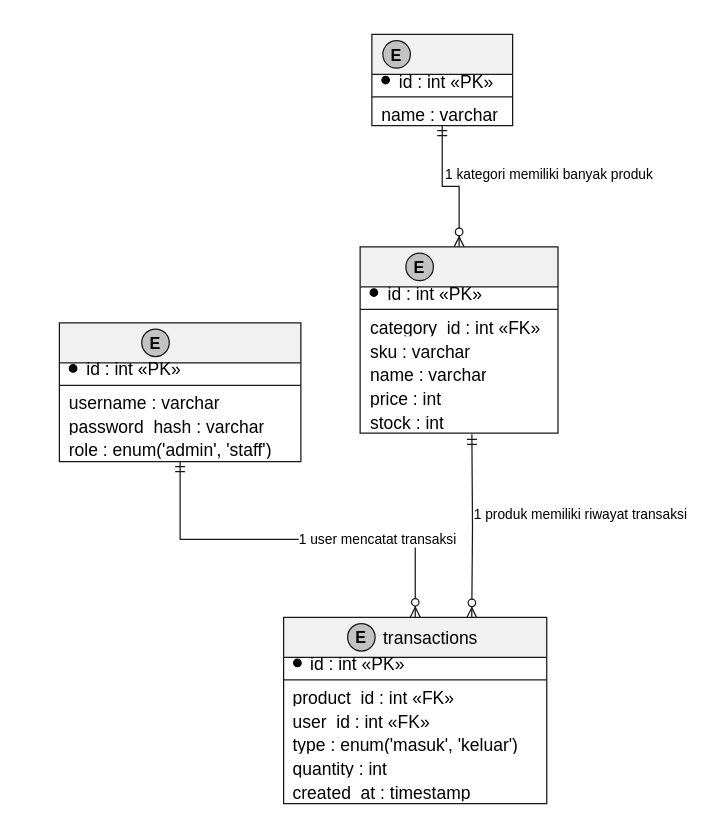
Image size: 710x825. Some labels were removed from this diagram. The box of each missing label's shape, as (x1, y1, x2, y2) in pixels:
categories: (371, 33, 513, 126)
products: (359, 246, 558, 433)
users: (58, 322, 301, 462)
